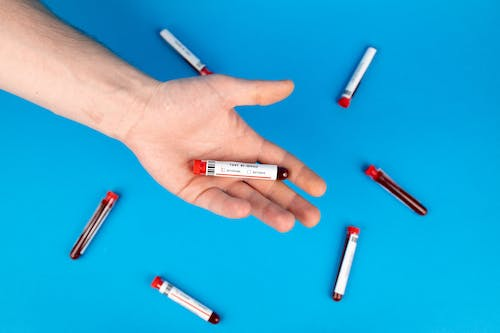blood: (69, 199, 110, 260), (373, 172, 427, 217), (159, 28, 206, 76), (331, 230, 352, 302), (276, 157, 290, 181), (350, 81, 363, 98), (209, 311, 221, 326)
